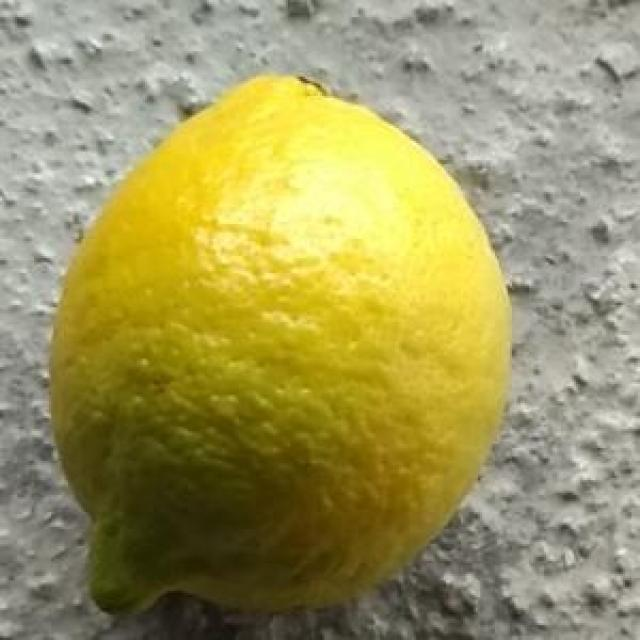lemon: (51, 67, 517, 628)
